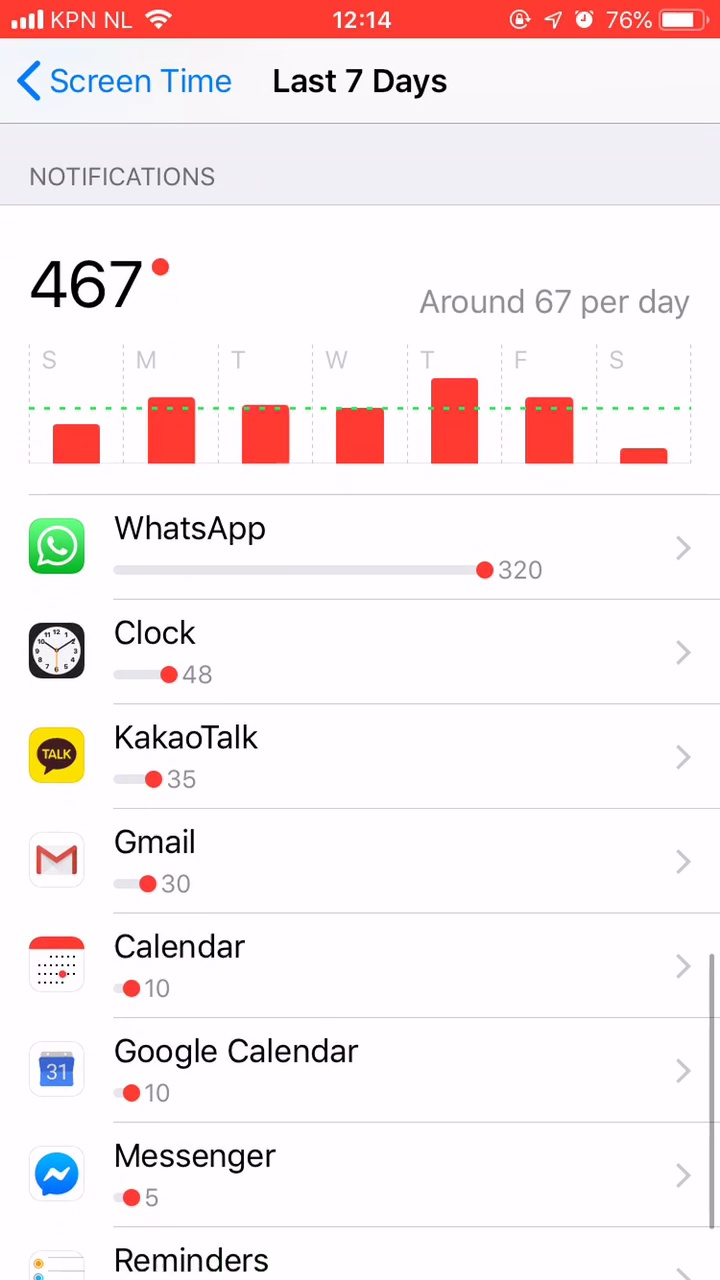not_app: (21, 494, 606, 599), (18, 603, 415, 705), (20, 1024, 434, 1121), (23, 1122, 412, 1225), (17, 917, 392, 1017), (15, 707, 378, 807), (15, 808, 340, 913)
not_over: (21, 136, 267, 330)
week: (260, 52, 468, 111)
